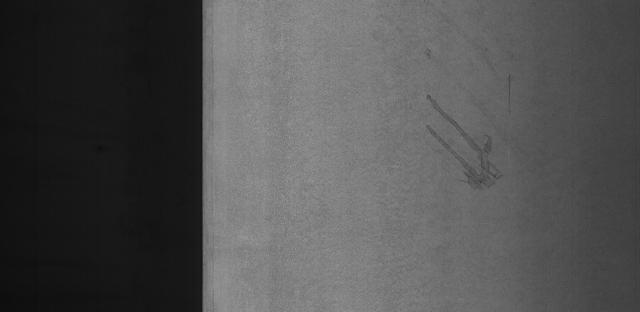water_spot: (415, 79, 520, 197)
